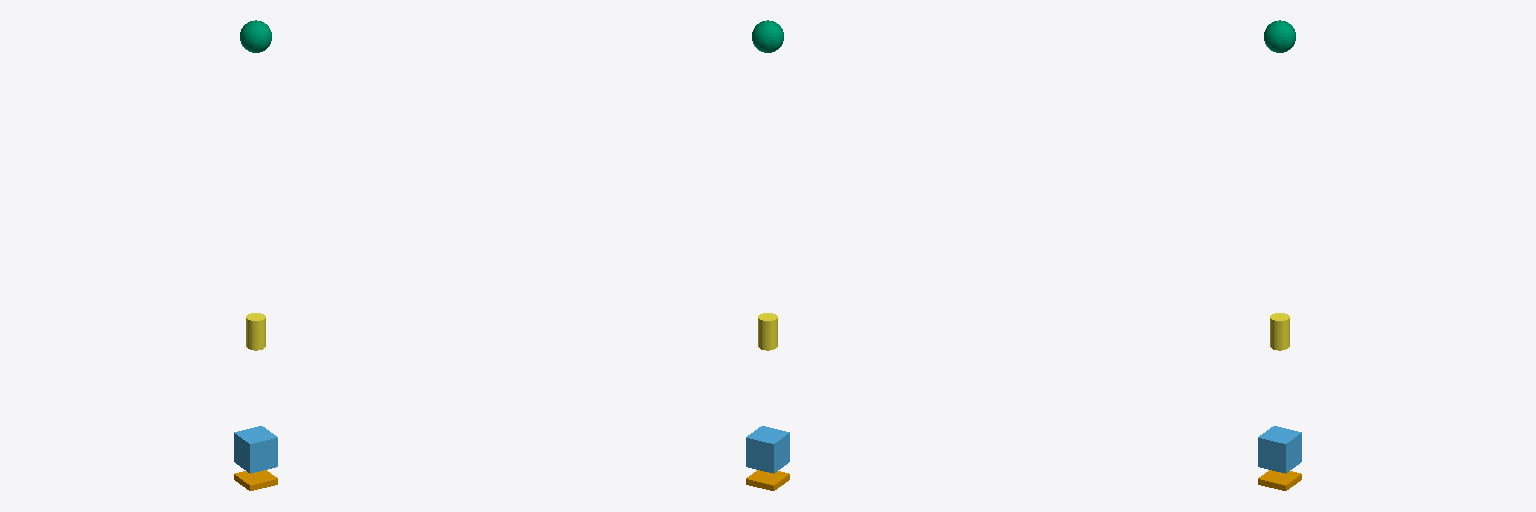
The robot description file, URDF, robot "walker":
<robot name="walker">
  <link name="base_footprint">
    <visual>
      <geometry>
        <box size="0.1 0.1 0.02"/>
      </geometry>
    </visual>
  </link>

  <joint name="base_link_joint" type="fixed">
    <parent link="base_footprint"/>
    <child link="base_link"/>
    <origin xyz="0 0 0.1" rpy="0 0 0"/>
  </joint>

  <link name="base_link">
    <visual>
      <geometry>
        <box size="0.1 0.1 0.1"/>
      </geometry>
    </visual>
  </link>

  <joint name="gps_joint" type="fixed">
    <parent link="base_footprint"/>
    <child link="gps_link"/>
    <origin xyz="0 0 1.5" rpy="0 0 0"/>
  </joint>

  <link name="gps_link">
    <visual>
      <geometry>
        <sphere radius="0.05"/>
      </geometry>
    </visual>
  </link>

  <joint name="imu_joint" type="fixed">
    <parent link="base_footprint"/>
    <child link="imu_link"/>
    <origin xyz="0 0 0.5" rpy="0 0 0"/>
  </joint>

  <link name="imu_link">
    <visual>
      <geometry>
        <cylinder radius="0.03" length="0.1"/>
      </geometry>
    </visual>
  </link>
</robot>

--- Render facts (derived) ---
The picture shows the robot from 3 angles, left to right: view 1: azimuth 30°, elevation 25°; view 2: azimuth 150°, elevation 25°; view 3: azimuth 330°, elevation 25°; orthographic projection.
Robot: walker — 4 links, 3 joints (3 fixed); root link base_footprint; default pose: all joints at 0.
Links seen in each view (by area): view 1: base_link, gps_link, imu_link, base_footprint; view 2: base_link, gps_link, imu_link, base_footprint; view 3: base_link, gps_link, imu_link, base_footprint.
Link boxes in pixels (<box>): base_link: <box>234,426,277,473</box>; gps_link: <box>240,20,271,52</box>; imu_link: <box>246,313,265,350</box>; base_footprint: <box>234,470,277,490</box>; base_link: <box>746,426,789,473</box>; gps_link: <box>752,20,783,52</box>; imu_link: <box>758,313,777,350</box>; base_footprint: <box>746,470,789,490</box>; base_link: <box>1258,426,1301,473</box>; gps_link: <box>1264,20,1295,52</box>; imu_link: <box>1270,313,1289,350</box>; base_footprint: <box>1258,470,1301,490</box>.
Bounding box of the posed robot: 0.1 × 0.1 × 1.56 m (x, y, z).
Geometry: primitives only (box / cylinder / sphere), no mesh files.
